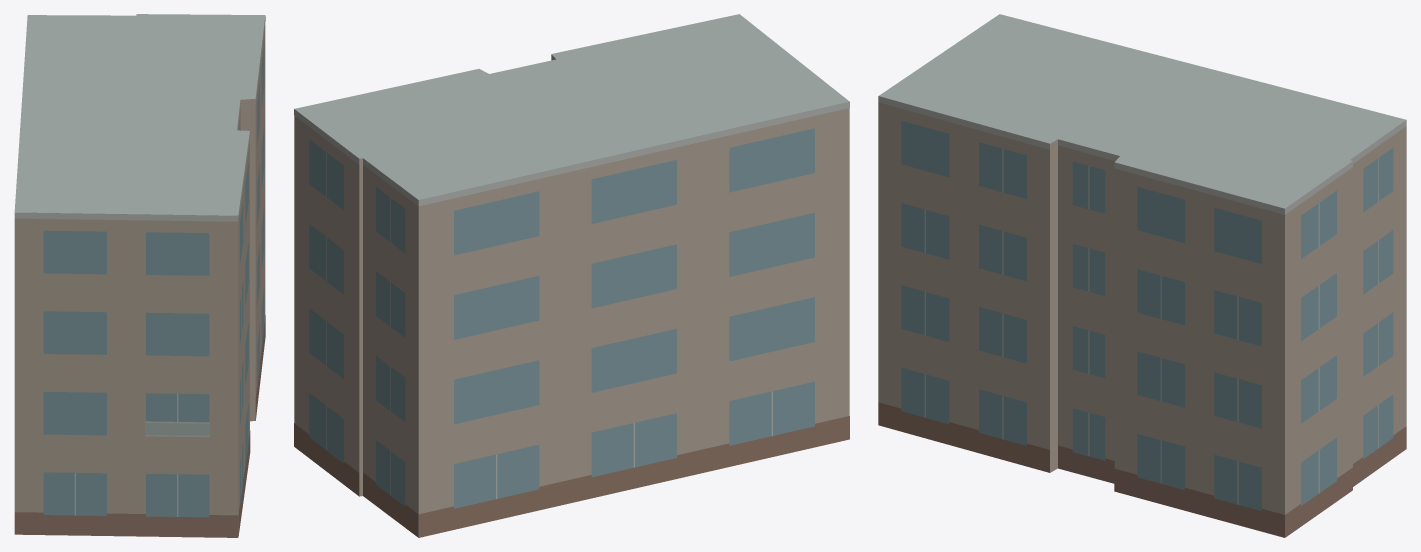
File: survey-upis-33004225.glb
3 renders of one model, left to right at view 1: azimuth 30°, elevation 25°; view 2: azimuth 150°, elevation 25°; view 3: azimuth 270°, elevation 25°, orthographic. The views are drawn at different scales.
Visible parts, largest first — view 1: survey-upis-33004225.tmp; view 2: survey-upis-33004225.tmp; view 3: survey-upis-33004225.tmp.
Boxes of the visible parts, <box> form: survey-upis-33004225.tmp: <box>14,14,265,537</box>; survey-upis-33004225.tmp: <box>294,14,849,537</box>; survey-upis-33004225.tmp: <box>878,14,1406,537</box>.
Bounding box in the file's own units: 16.5 × 13 × 18.91.
